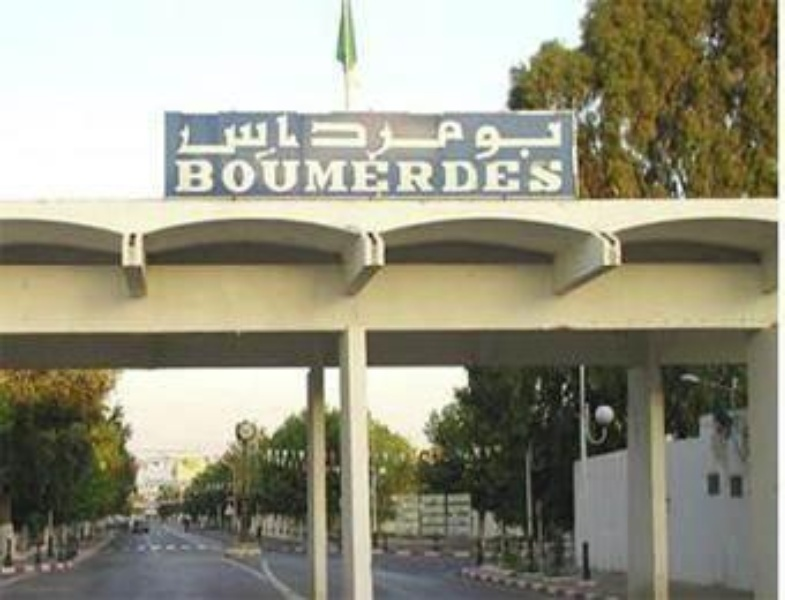text: (177, 116, 192, 160), (193, 116, 208, 160), (209, 116, 224, 160), (225, 116, 240, 160), (241, 116, 256, 160), (257, 116, 272, 160), (273, 116, 288, 160), (289, 116, 304, 160), (305, 116, 320, 160), (321, 116, 336, 160), (337, 116, 352, 160), (353, 116, 368, 160), (369, 116, 384, 160), (385, 116, 400, 160), (401, 116, 416, 160), (417, 116, 432, 160), (433, 116, 448, 160), (449, 116, 464, 160), (465, 116, 480, 160), (481, 116, 496, 160), (497, 116, 512, 160), (513, 116, 528, 160), (529, 116, 544, 160), (545, 116, 560, 160), (177, 155, 192, 197), (193, 155, 208, 197), (209, 155, 224, 197), (225, 155, 240, 197), (241, 155, 256, 197), (257, 155, 272, 197), (273, 155, 288, 197), (289, 155, 304, 197), (305, 155, 320, 197), (321, 155, 336, 197), (337, 155, 352, 197), (353, 155, 368, 197), (369, 155, 384, 197), (385, 155, 400, 197), (401, 155, 416, 197), (417, 155, 432, 197), (433, 155, 448, 197), (449, 155, 464, 197), (465, 155, 480, 197), (481, 155, 496, 197), (497, 155, 512, 197), (513, 155, 528, 197), (529, 155, 544, 197), (545, 155, 560, 197), (561, 116, 571, 160), (169, 116, 176, 160), (561, 155, 568, 197), (171, 155, 176, 197)
